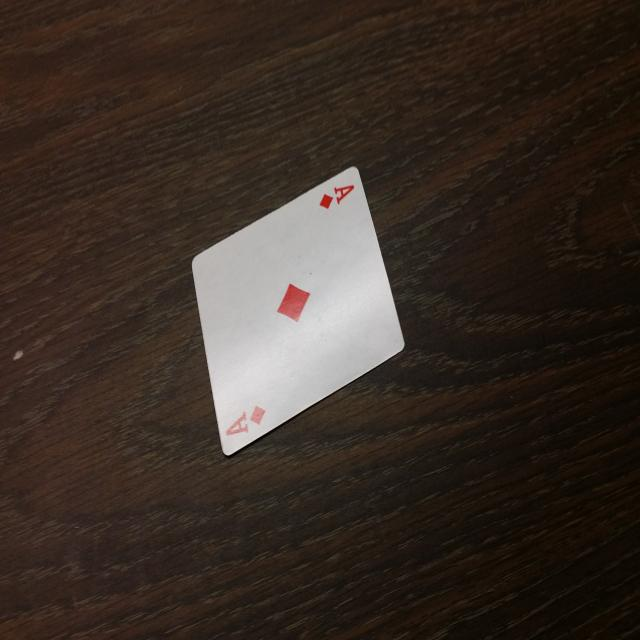Ad: (218, 392, 272, 452), (312, 179, 362, 221)
